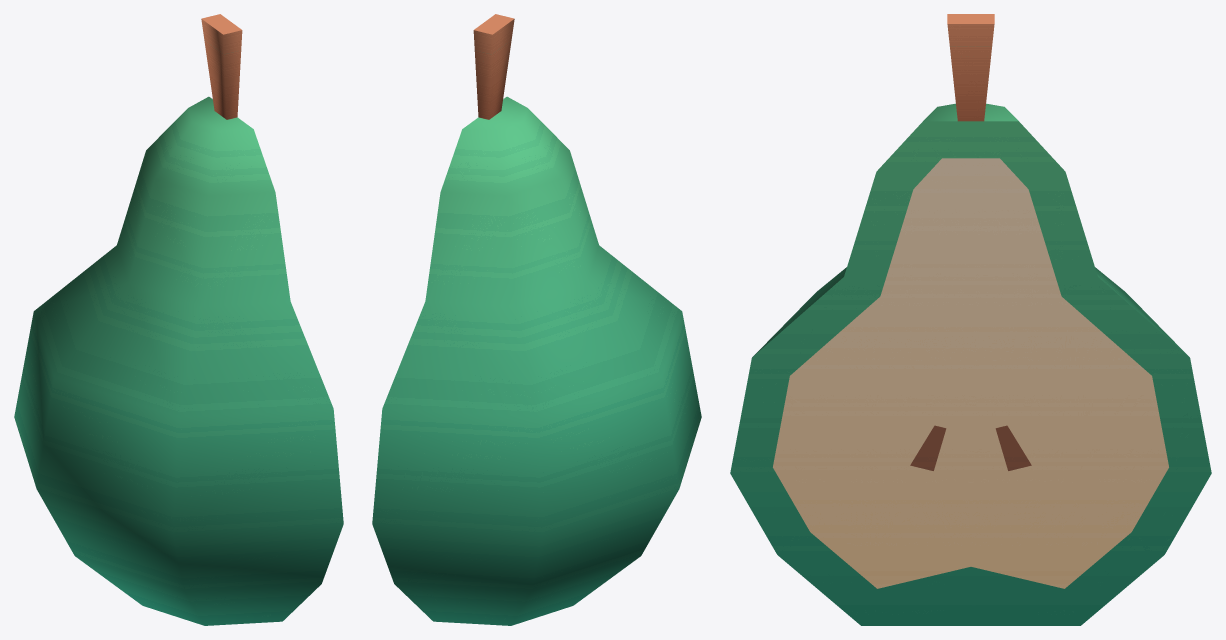
The model's file is pear-half.glb.
3 renders of one model, left to right at view 1: azimuth 30°, elevation 25°; view 2: azimuth 150°, elevation 25°; view 3: azimuth 270°, elevation 25°, orthographic. The views are drawn at different scales.
Parts seen in each view (by area): view 1: pear-half; view 2: pear-half; view 3: pear-half.
Boxes of the visible parts, bbox=[...] form: pear-half: bbox=[14, 14, 343, 625]; pear-half: bbox=[372, 14, 701, 625]; pear-half: bbox=[730, 14, 1211, 625].
Size of the model in its own units: 0.0981 by 0.2708 by 0.1963.
Materials: 1 (1 with a texture image).
